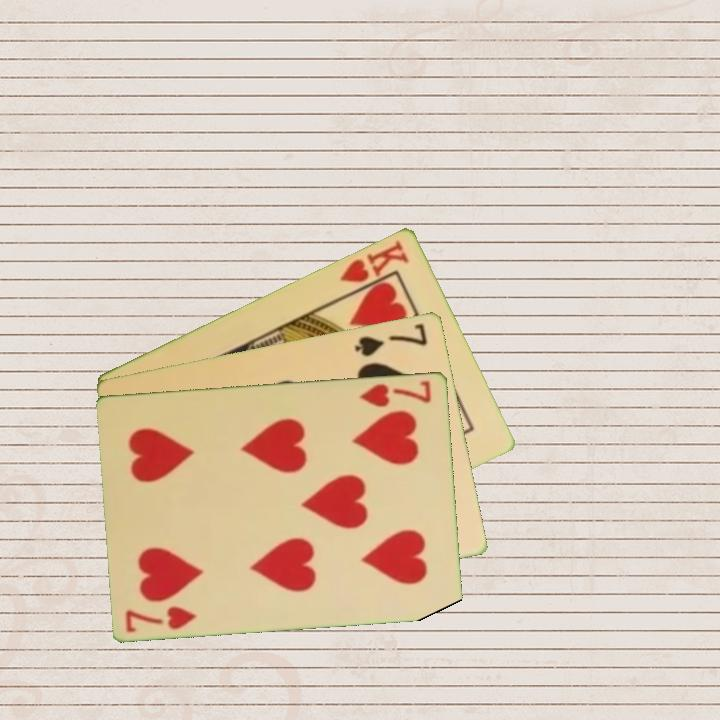7h: (355, 376, 435, 410), (122, 602, 200, 635)
7s: (351, 319, 431, 359)
Kh: (336, 236, 412, 298)
